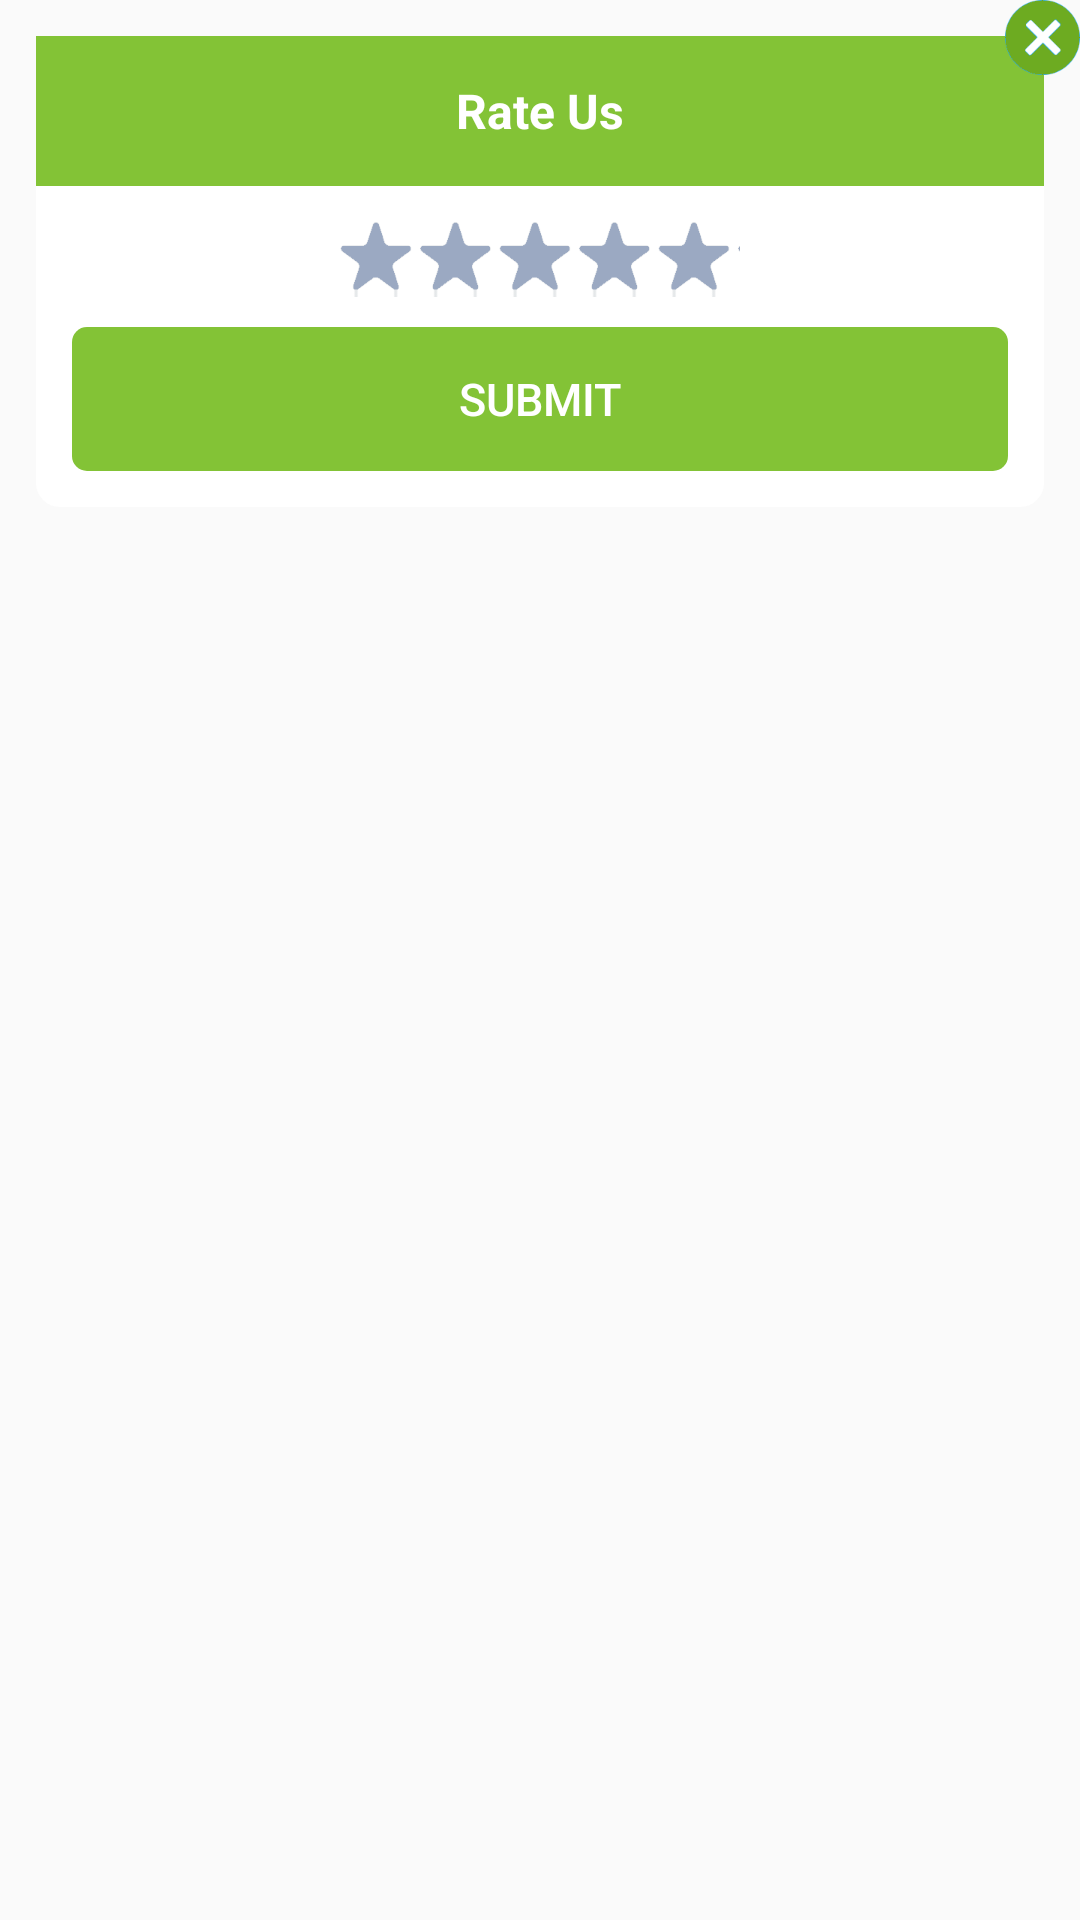

Icons on this 1080*1920 Android screen, each with the point to tap as [x,y]:
close circle: [1042,37]
